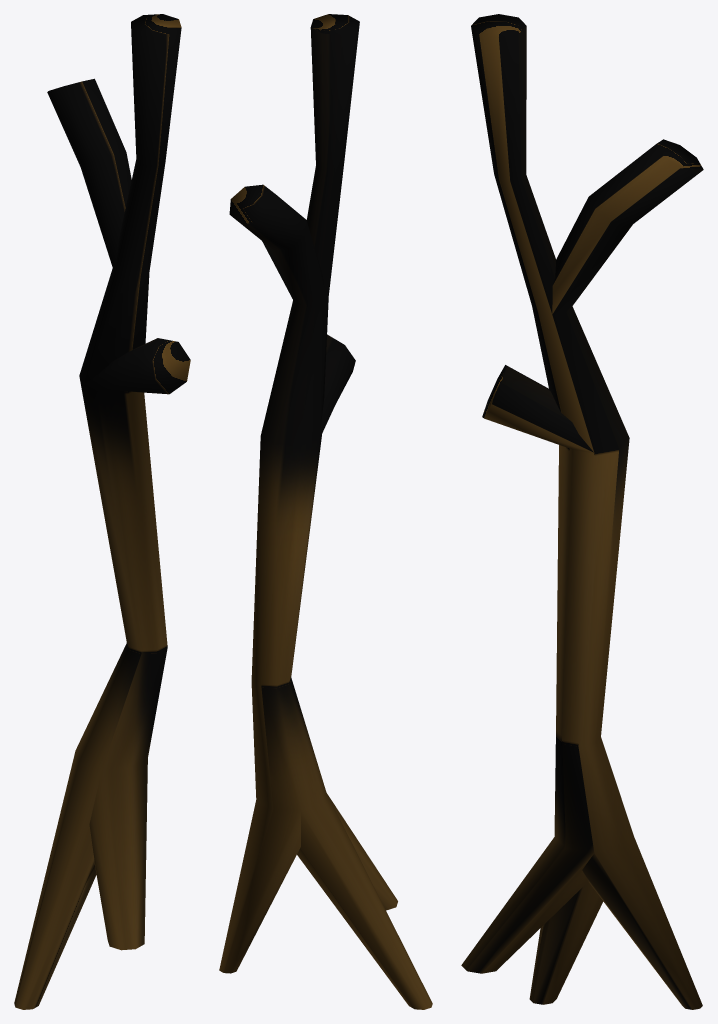
File: pohon gosong_1.fbx
The picture shows the model from 3 angles, left to right: view 1: azimuth 30°, elevation 25°; view 2: azimuth 150°, elevation 25°; view 3: azimuth 270°, elevation 25°; orthographic projection. The views are drawn at different scales.
Parts seen in each view (by area): view 1: Cylinder.002; view 2: Cylinder.002; view 3: Cylinder.002.
Boxes of the visible parts, x1,y1,x2,y2 form: Cylinder.002: (14, 14, 190, 1009); Cylinder.002: (219, 14, 432, 1009); Cylinder.002: (461, 14, 703, 1009).
Bounding box in the file's own units: 272 × 1508 × 322.
Materials: 1 (1 with a texture image).
